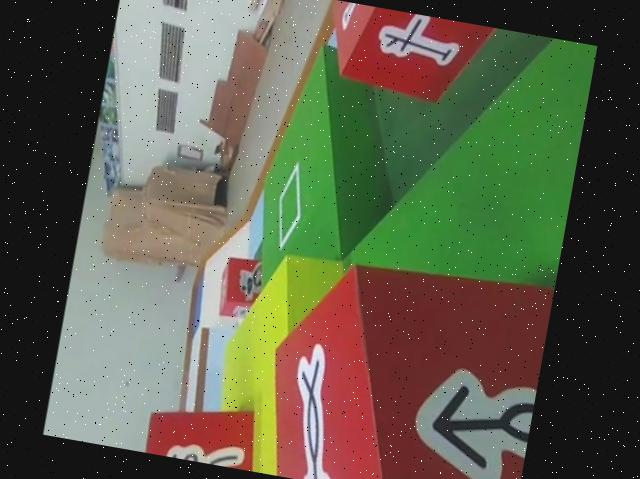R1: (211, 249, 271, 320)
R2 Fake: (138, 385, 275, 473)
R2 Real: (250, 232, 556, 479), (313, 0, 504, 113)
